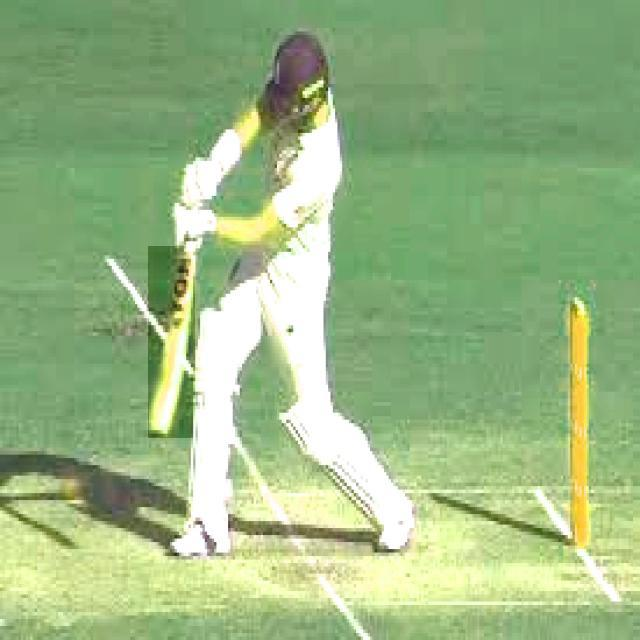bat: (150, 244, 193, 439)
toe: (148, 421, 174, 438)
